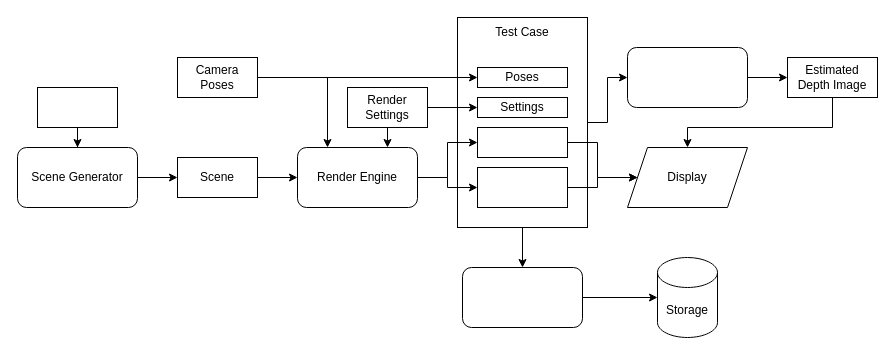
This 895x355 diagram has some shape labels left out. The shapes that lost their labels are listed below. From the top down, each one's centre as x and y in pixels, then its label:
the point at 687,77: Depth Estimator
the point at 77,107: 3D models
the point at 522,142: RGB Images
the point at 522,187: Ground-Truth Depth Images
the point at 522,297: Snapshot
